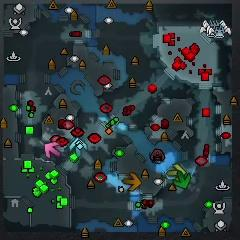x1: (43, 141, 61, 159)
x2: (167, 163, 186, 178)
x3: (69, 137, 88, 159)
x4: (174, 171, 192, 189)
x5: (122, 171, 142, 192)
